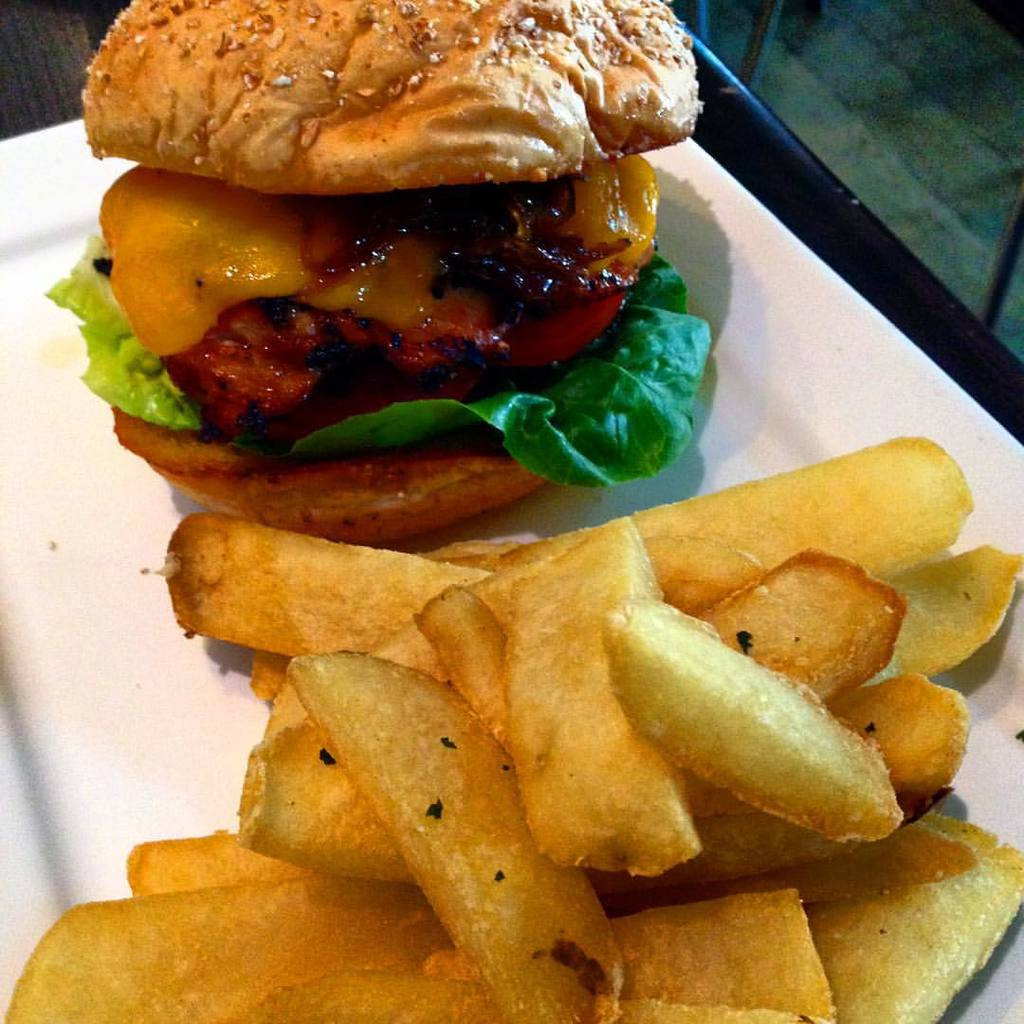French fries: (131, 410, 1009, 1015)
